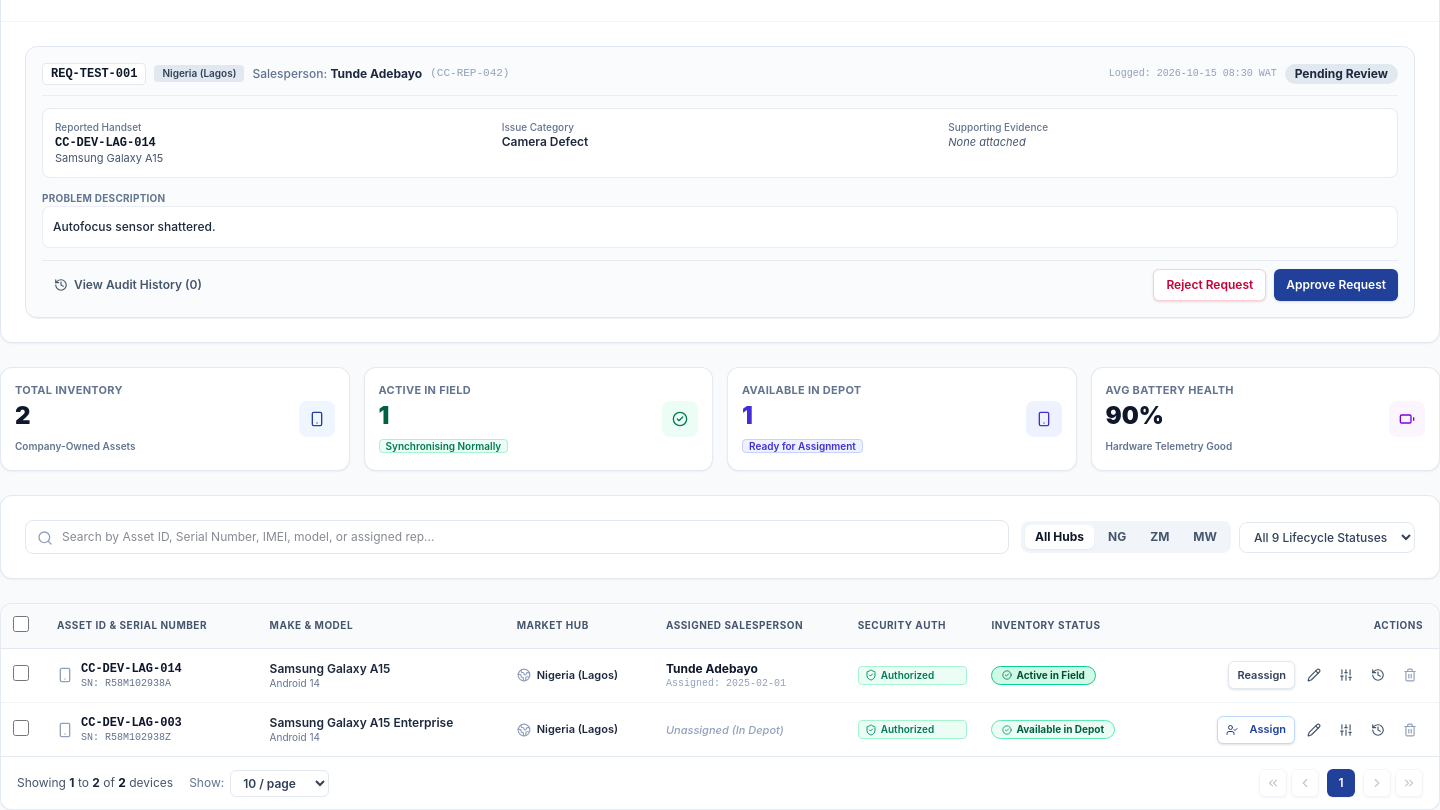
it: Stage 3E: Management & HQ Administration Integration Tests › 7. Secure HQ Admin User Provisioning via Edge Function › HqDeviceManagement renders newly provisioned salesperson in Assign Handset modal dropdown
(page scrolled)
Step 1. Click the button "Assign" → (1256,730), box [1216,716,1295,744]
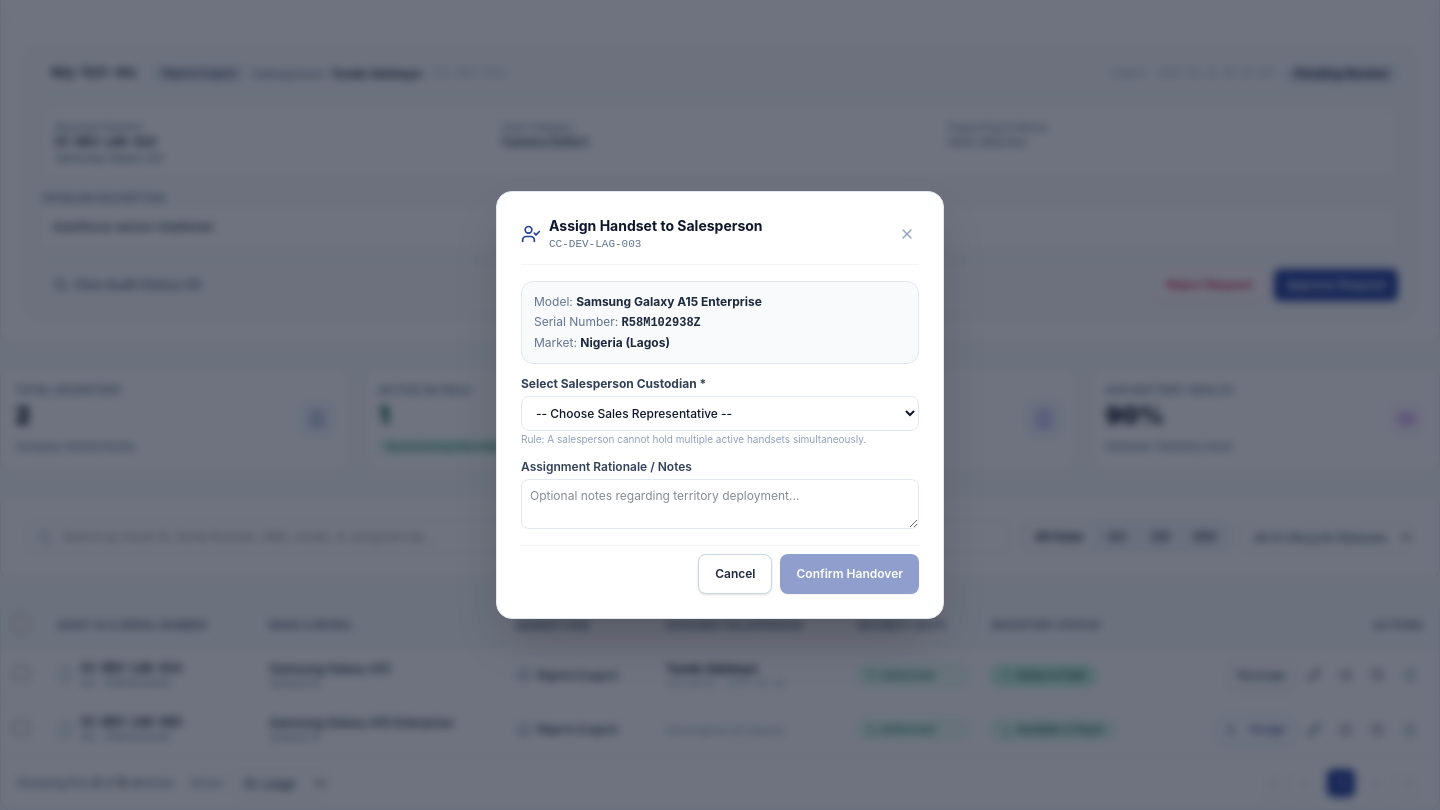
Result: the heading "Assign Handset to Salesperson" is shown at [549,216,763,236]
Result: the dropdown with test id "salesperson-custodian-select" is shown at [521,396,919,431]
